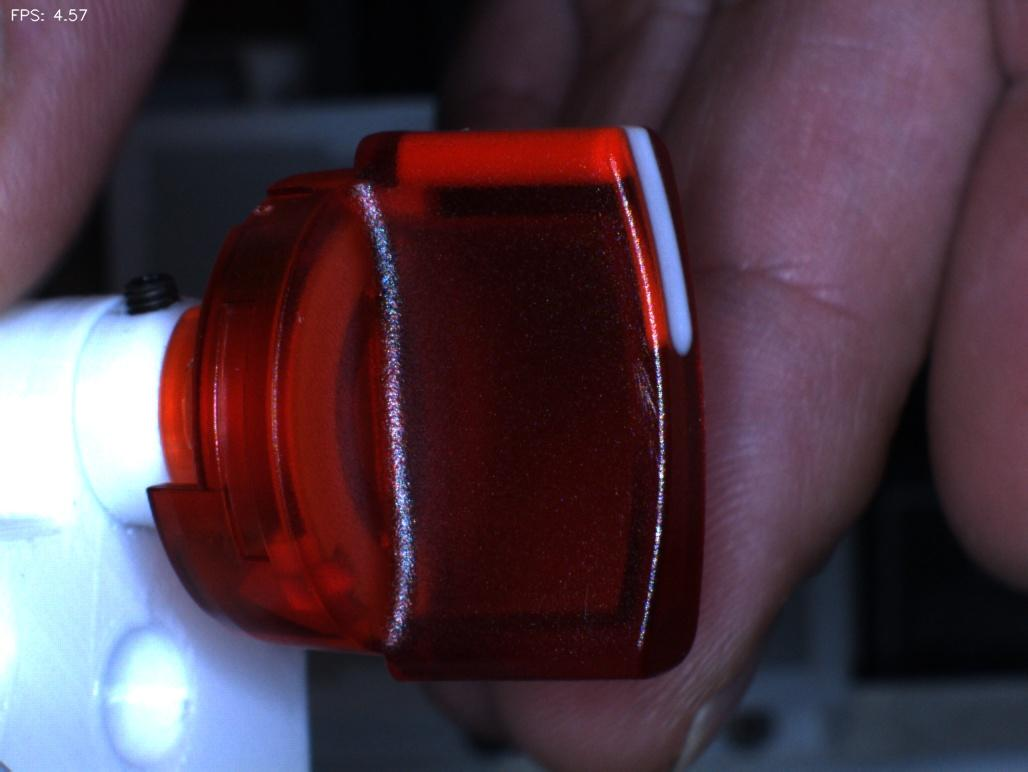Givrage: (598, 347, 678, 456)
